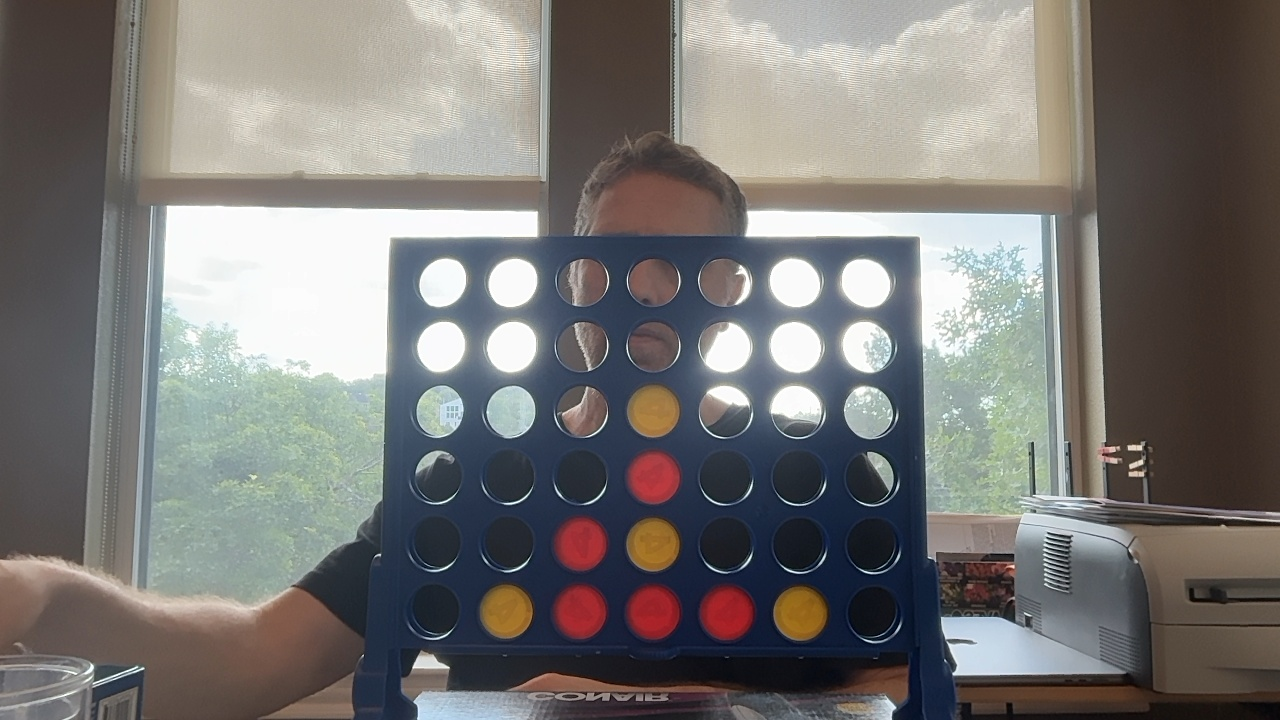red piece: (625, 584, 680, 640), (699, 585, 754, 641), (552, 584, 606, 640), (553, 517, 607, 571), (626, 450, 680, 504)
yellow piece: (773, 586, 828, 641), (479, 584, 533, 639), (626, 518, 679, 571), (627, 384, 679, 437)
